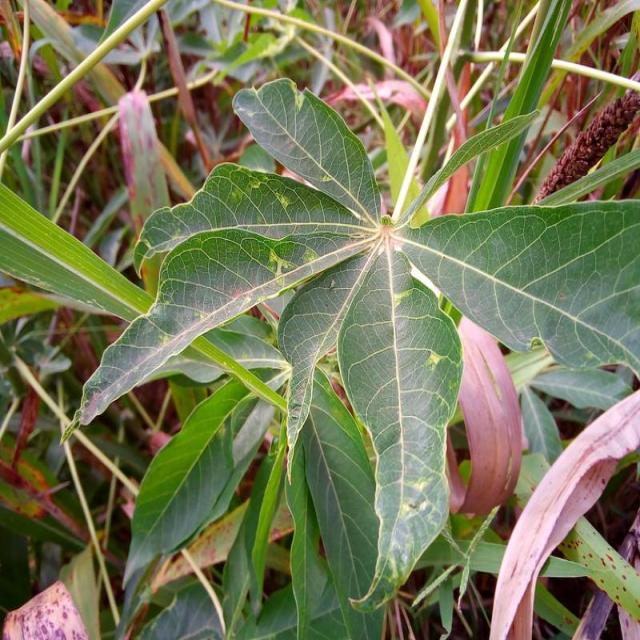cassava leaf: (64, 74, 638, 629)
